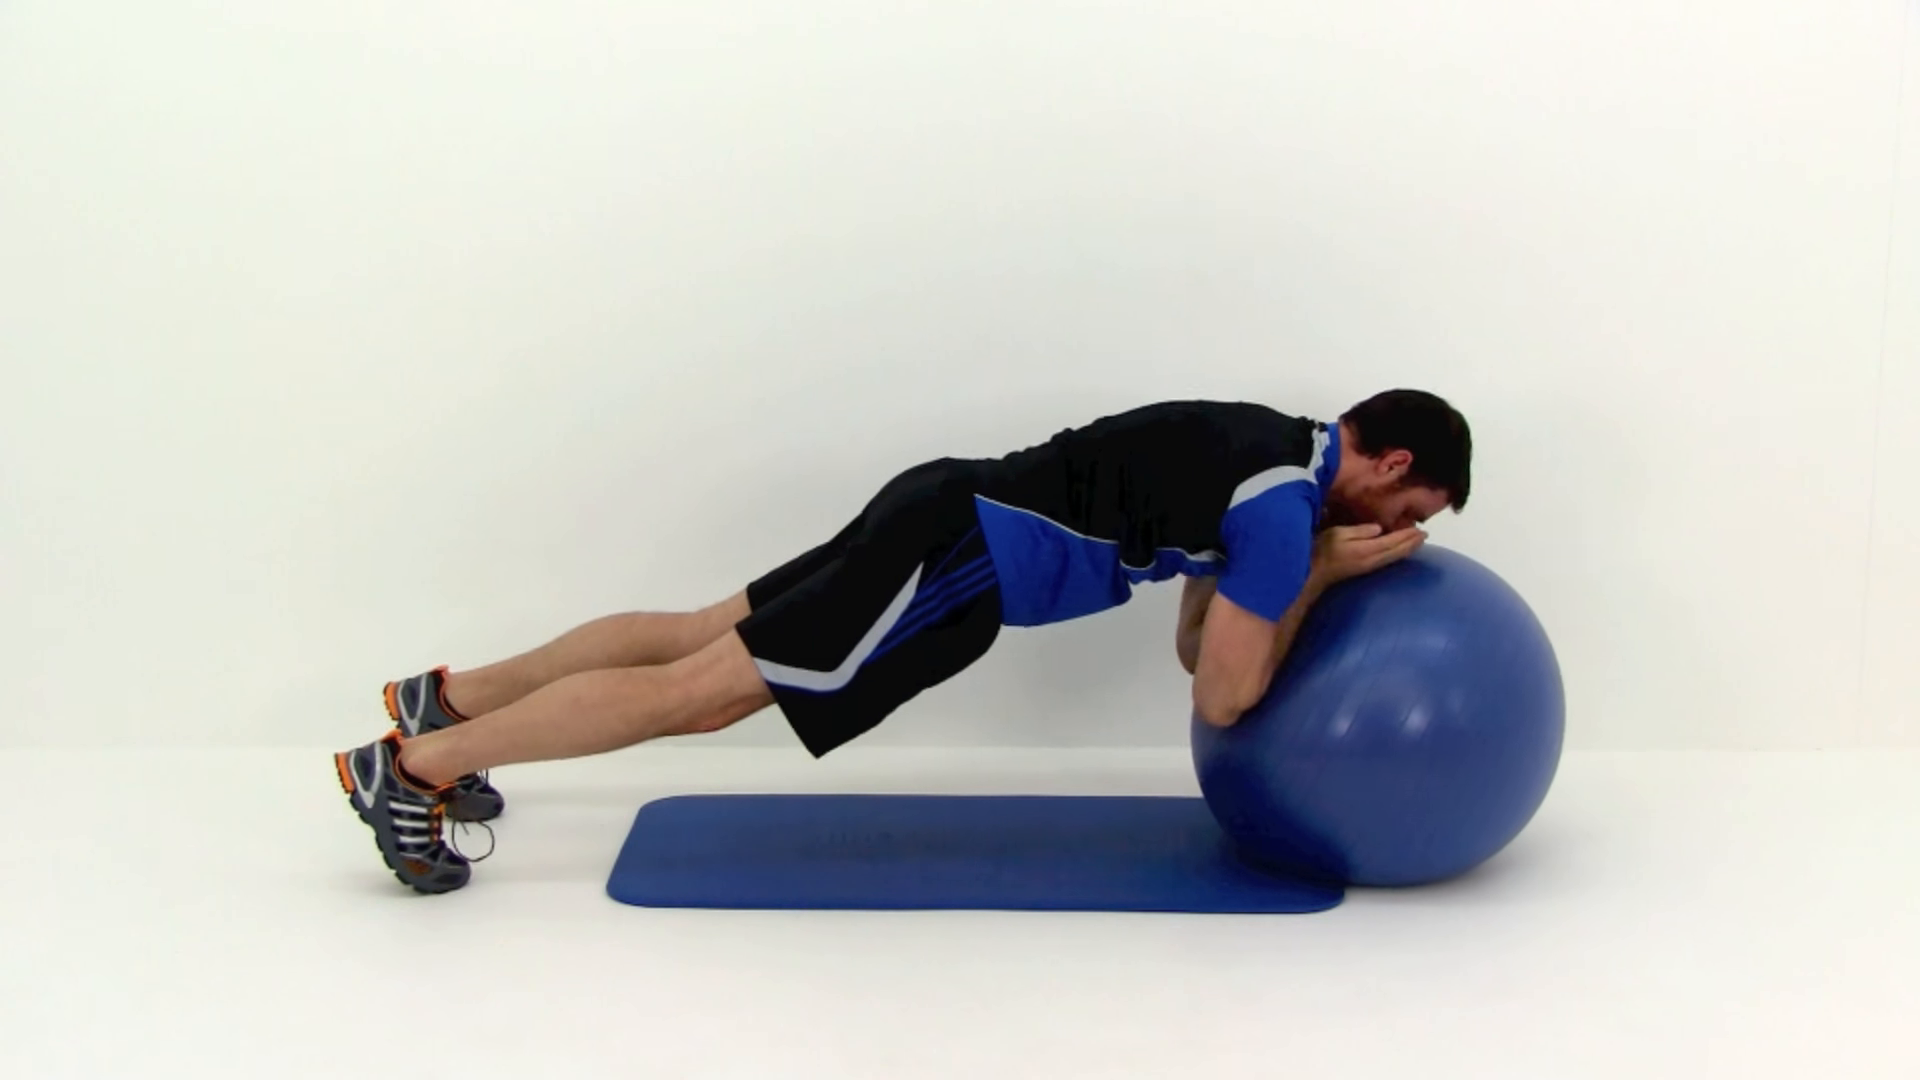yogaball: (1185, 525, 1572, 891)
